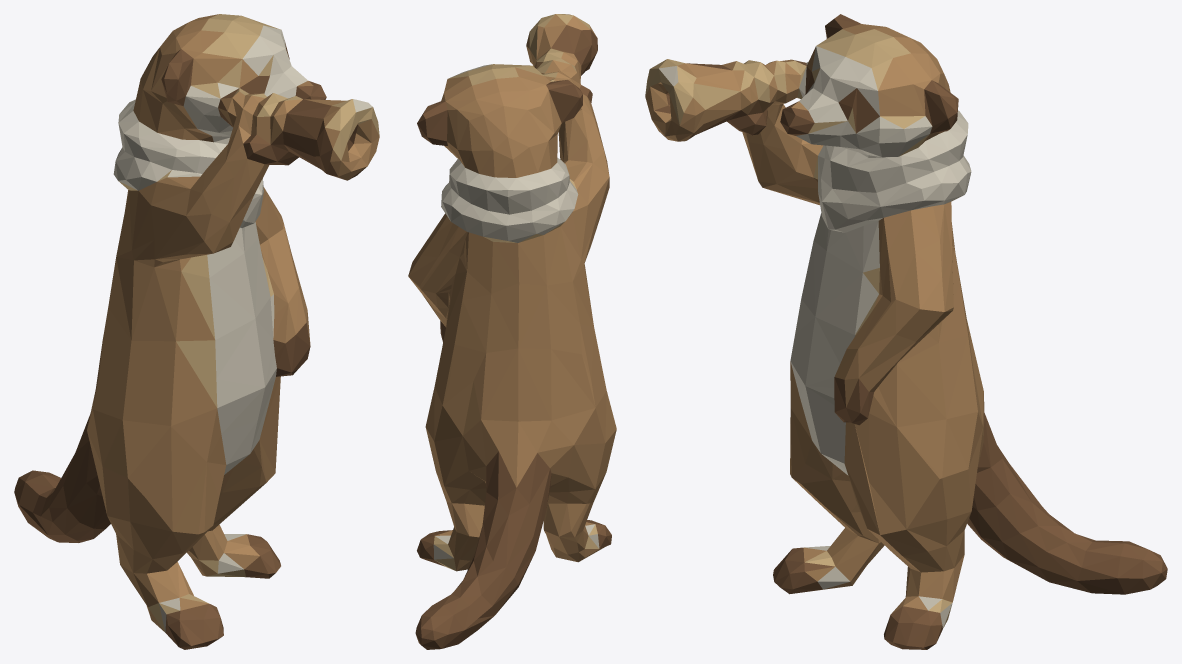
3 renders of one model, left to right at view 1: azimuth 30°, elevation 25°; view 2: azimuth 150°, elevation 25°; view 3: azimuth 270°, elevation 25°, orthographic. The views are drawn at different scales.
Bounding box in the file's own units: 0.3798 × 1.03 × 0.8363.
